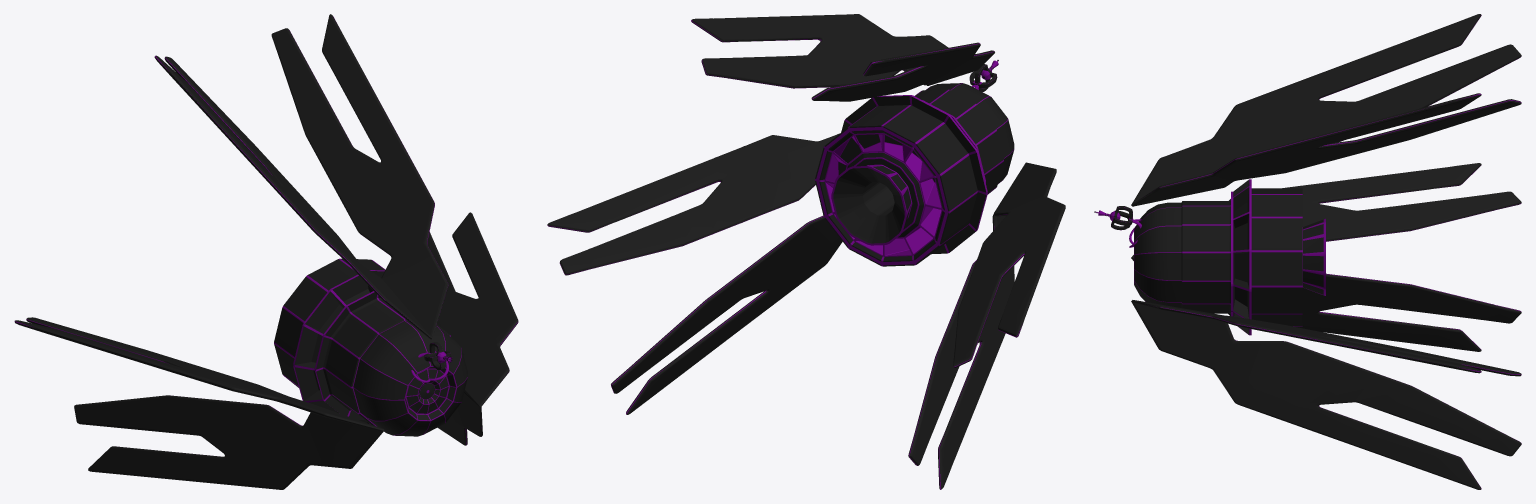
The model's file is VehilceTextured_003.fbx.
3 views of the same model, side by side, from view 1: azimuth 30°, elevation 25°; view 2: azimuth 150°, elevation 25°; view 3: azimuth 270°, elevation 25° (orthographic). The views are drawn at different scales.
Visible parts, largest first — view 1: M4_Wing_02, M4_Wing_01, M4_JetExhaust, M4_BaseCover, M4_Wing_03; view 2: M4_Wing_03, M4_JetExhaust, M4_Wing_01, M4_Wing_02, M4_BaseCover; view 3: M4_Wing_02, M4_Wing_03, M4_Wing_01, M4_JetExhaust, M4_BaseCover, M4_TetherBeam.
Part boxes in pixels (bbox=[...]): M4_Wing_02: bbox=[154, 14, 448, 339]; M4_Wing_01: bbox=[14, 317, 383, 489]; M4_JetExhaust: bbox=[274, 258, 450, 426]; M4_BaseCover: bbox=[353, 320, 467, 436]; M4_Wing_03: bbox=[427, 212, 518, 445]; M4_Wing_03: bbox=[547, 133, 842, 414]; M4_JetExhaust: bbox=[815, 89, 1003, 266]; M4_Wing_01: bbox=[908, 162, 1065, 489]; M4_Wing_02: bbox=[691, 14, 994, 101]; M4_BaseCover: bbox=[925, 83, 1014, 183]; M4_Wing_02: bbox=[1131, 14, 1521, 206]; M4_Wing_03: bbox=[1131, 300, 1521, 489]; M4_Wing_01: bbox=[1131, 163, 1521, 351]; M4_JetExhaust: bbox=[1181, 179, 1325, 335]; M4_BaseCover: bbox=[1134, 202, 1181, 307]; M4_TetherBeam: bbox=[1094, 206, 1133, 230].
Bounding box in the file's own units: 26.97 × 22.6 × 23.72.
